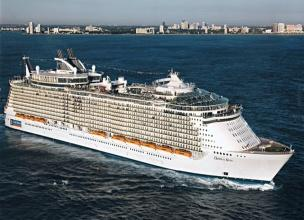youlun: (5, 50, 294, 182)
